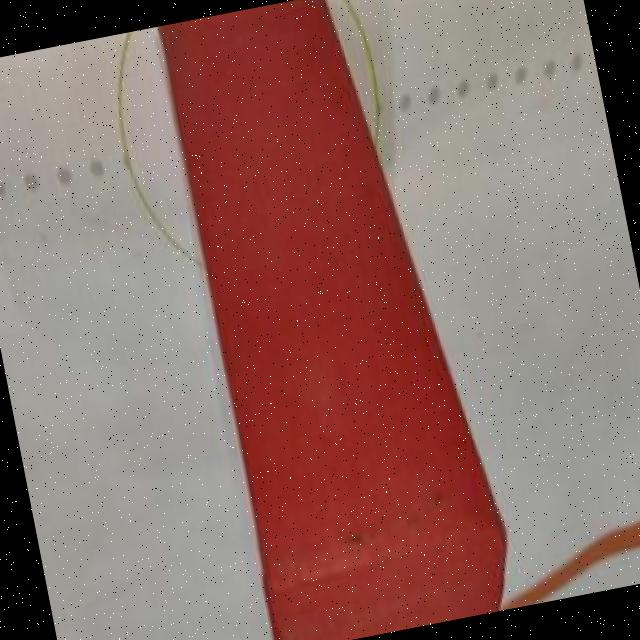redbox: (150, 0, 524, 640)
